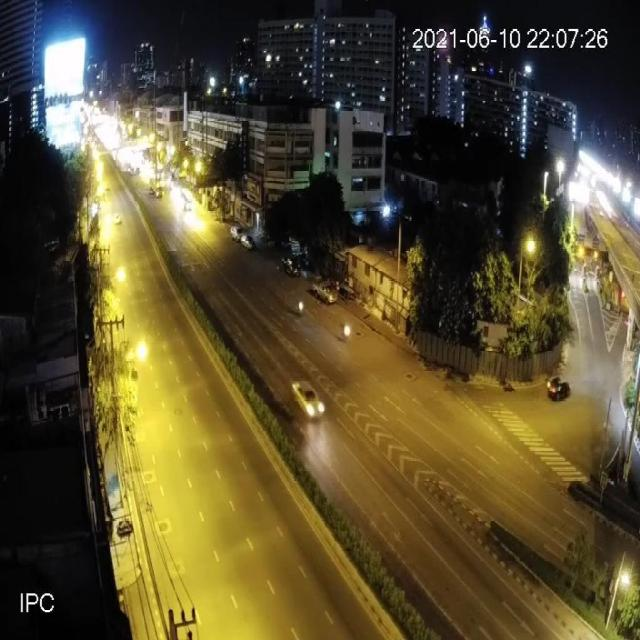Bus: (181, 189, 193, 212)
Car: (291, 380, 326, 423), (312, 279, 337, 306), (547, 374, 571, 402), (283, 256, 300, 278), (240, 235, 254, 249)
Cycle: (340, 324, 350, 339), (295, 302, 304, 314)
Van: (231, 225, 243, 242)
